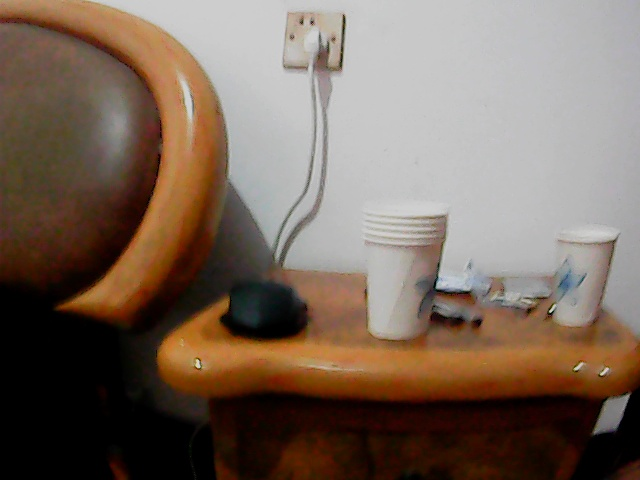cup: (362, 200, 447, 343)
mouse: (221, 275, 309, 343)
